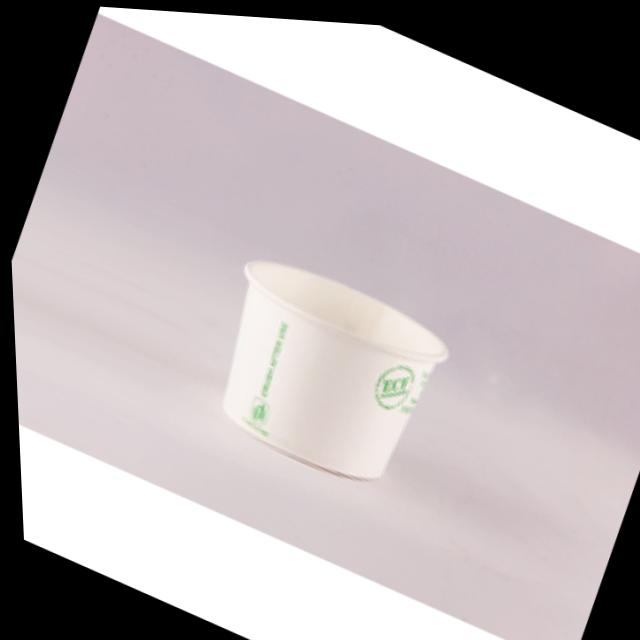paper_cups: (182, 237, 457, 504)
